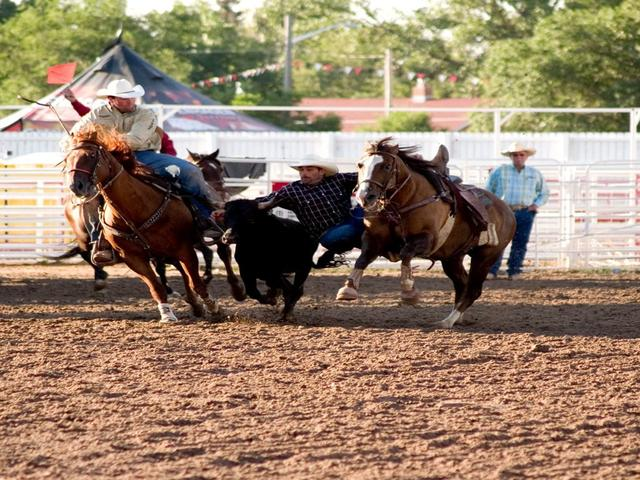horse: (40, 125, 259, 372), (340, 134, 535, 333)
